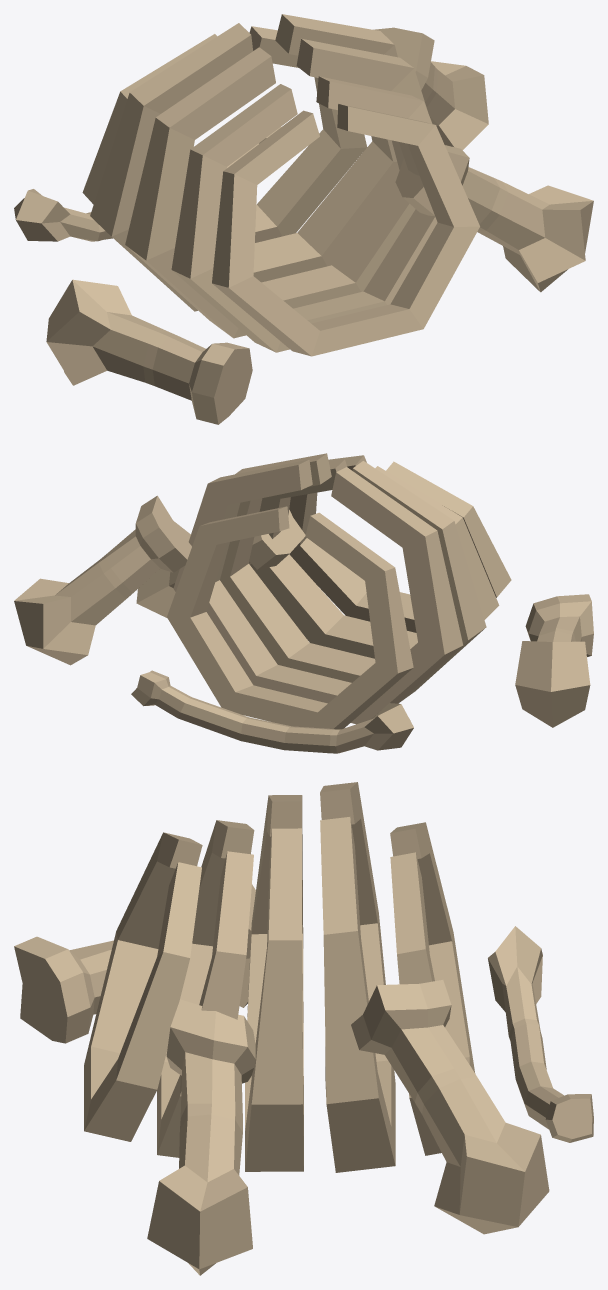
The model's file is Bones.glb.
3 views of the same model, one above another, from view 1: azimuth 30°, elevation 25°; view 2: azimuth 150°, elevation 25°; view 3: azimuth 270°, elevation 25° (orthographic). The views are drawn at different scales.
Parts seen in each view (by area): view 1: BonePile; view 2: BonePile; view 3: BonePile.
Boxes of the visible parts, <box> form: BonePile: <box>14,14,593,424</box>; BonePile: <box>14,453,593,753</box>; BonePile: <box>14,782,593,1275</box>.
Bounding box in the file's own units: 2.15 × 1.07 × 1.64.
